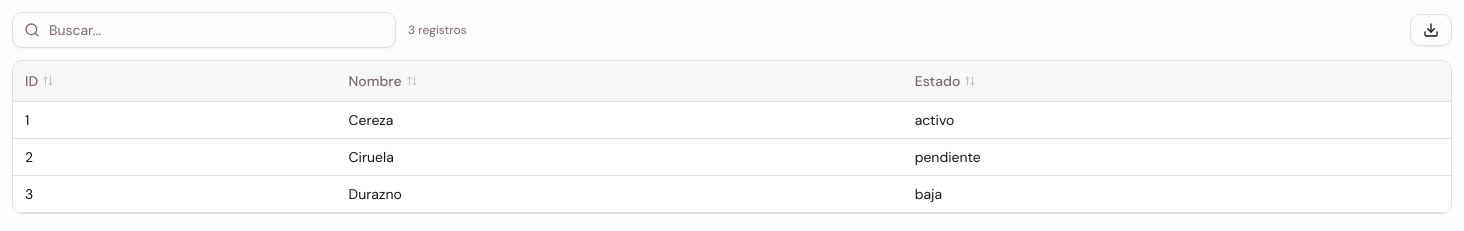
CrudTable › search filters data rows
Type "Cereza" into the field with placeholder "Buscar..." at (204, 30), box [12, 12, 396, 48]
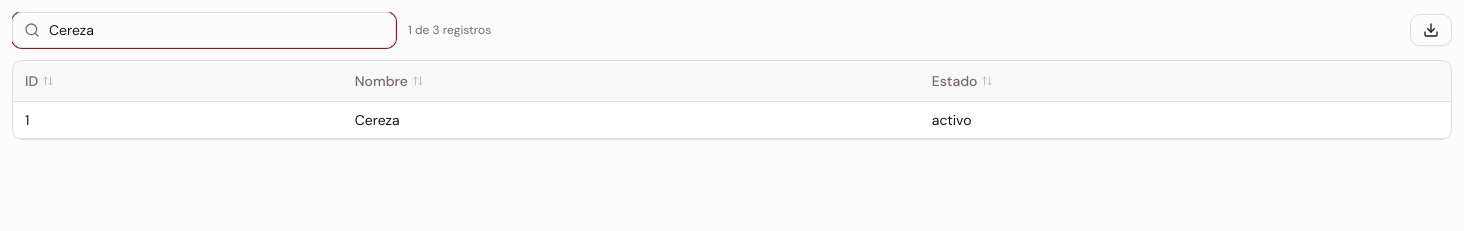
Check: the text "Cereza" is shown, box [343, 101, 920, 138]
Check: the text "Ciruela" is gone
Check: the text "Durazno" is gone
